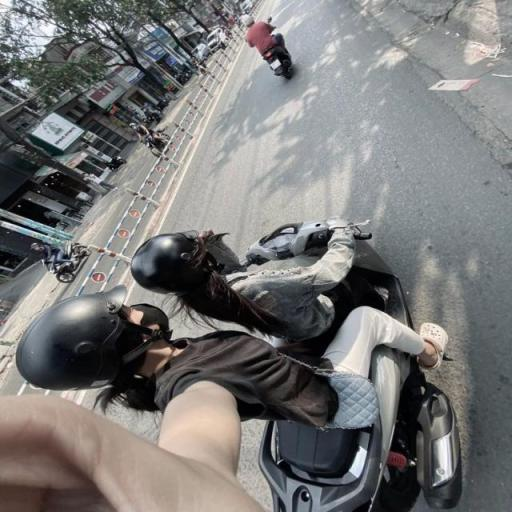with helmet: (12, 284, 134, 392), (125, 228, 201, 297), (234, 13, 262, 29)
